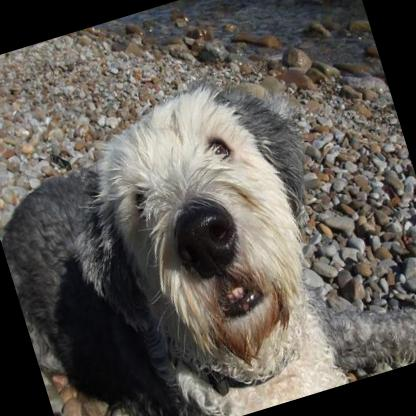Old_English_sheepdog: (0, 26, 416, 416)
